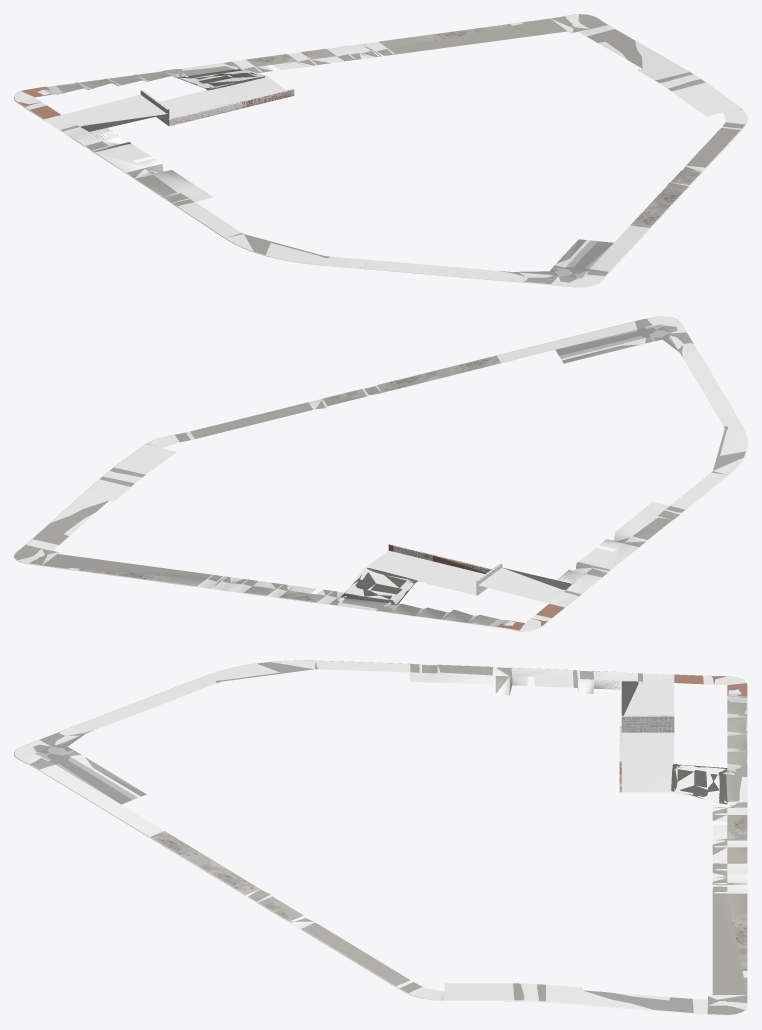
The model's file is sidewalk_church.dae.
3 renders of one model, top to bottom at view 1: azimuth 30°, elevation 25°; view 2: azimuth 150°, elevation 25°; view 3: azimuth 270°, elevation 25°, orthographic. The views are drawn at different scales.
Parts seen in each view (by area): view 1: sidewalk_church_a3000, sidewalk_church_a2000; view 2: sidewalk_church_a3000, sidewalk_church_a2000; view 3: sidewalk_church_a3000, sidewalk_church_a2000.
Boxes of the visible parts, x1,y1,x2,y2 form: sidewalk_church_a3000: (14, 14, 747, 287); sidewalk_church_a2000: (18, 14, 745, 284); sidewalk_church_a3000: (14, 316, 747, 631); sidewalk_church_a2000: (14, 318, 745, 630); sidewalk_church_a3000: (14, 660, 747, 1015); sidewalk_church_a2000: (30, 662, 747, 1014).
Size of the model in its own units: 139 by 154 by 19.73.
